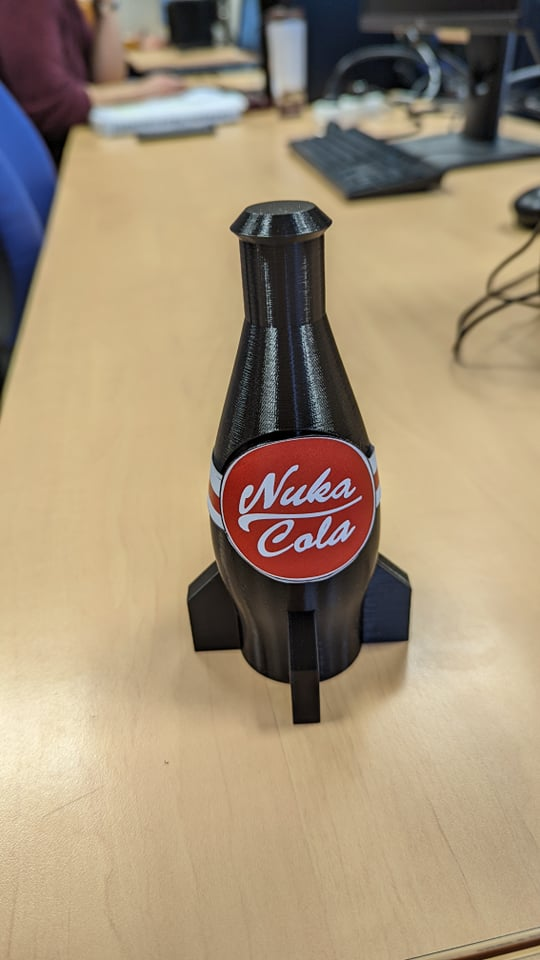bottle: (182, 193, 416, 733)
